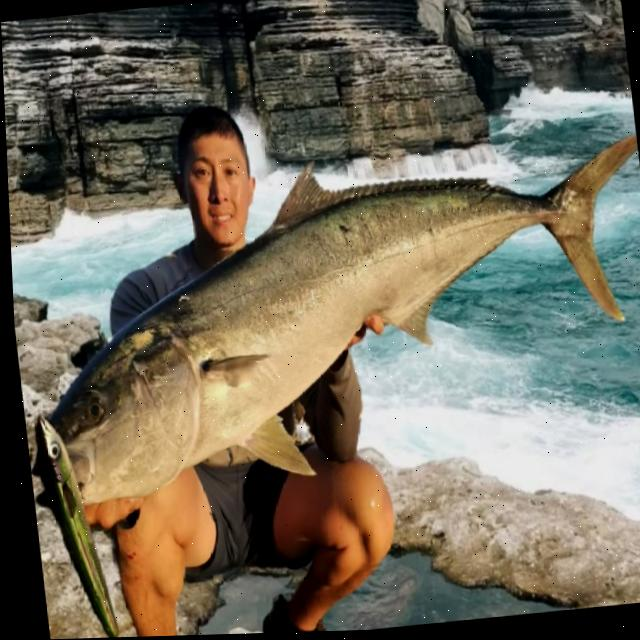Kingfish: (5, 124, 640, 518)
